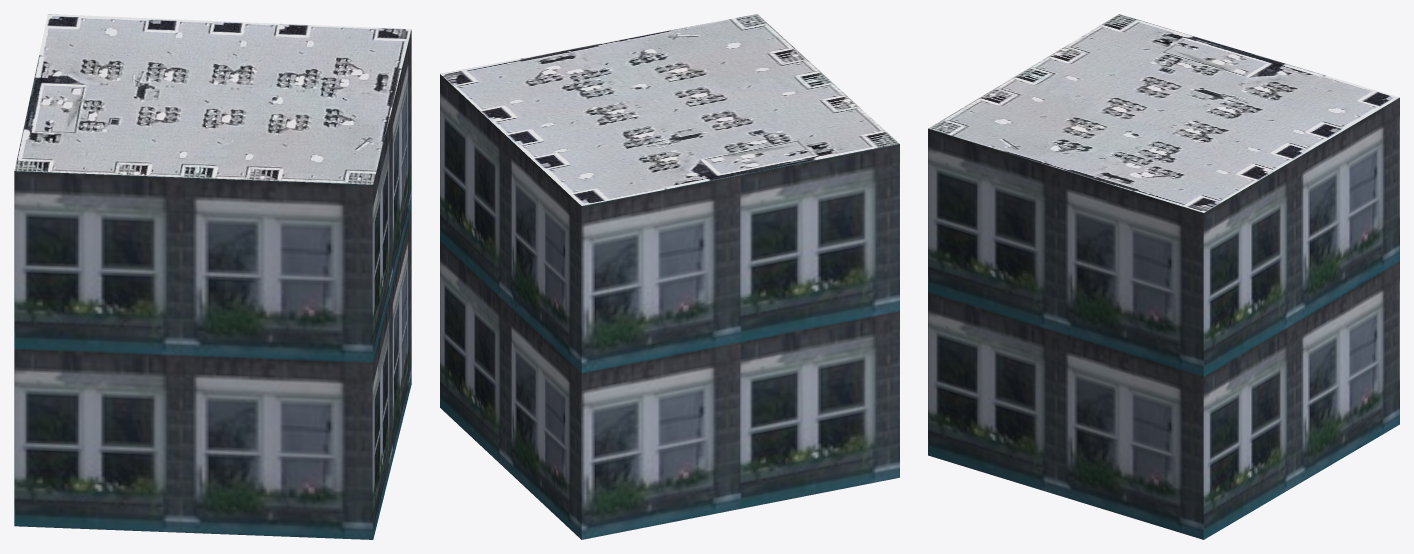
Rendered from ResTex__3879.fbx.
3 views of the same model, side by side, from view 1: azimuth 30°, elevation 25°; view 2: azimuth 150°, elevation 25°; view 3: azimuth 270°, elevation 25° (orthographic). The views are drawn at different scales.
Visible parts, largest first — view 1: CityEngineMaterial_11_m, CityEngineMaterial_2_m; view 2: CityEngineMaterial_11_m, CityEngineMaterial_2_m; view 3: CityEngineMaterial_11_m, CityEngineMaterial_2_m.
Boxes of the visible parts, bbox=[...] form: CityEngineMaterial_11_m: bbox=[14, 30, 411, 539]; CityEngineMaterial_2_m: bbox=[14, 14, 411, 184]; CityEngineMaterial_11_m: bbox=[440, 74, 899, 539]; CityEngineMaterial_2_m: bbox=[440, 14, 899, 205]; CityEngineMaterial_11_m: bbox=[928, 97, 1399, 539]; CityEngineMaterial_2_m: bbox=[928, 14, 1399, 212].
Bounding box in the file's own units: 7.83 × 6 × 7.85.
Materials: 2 (2 with a texture image).
